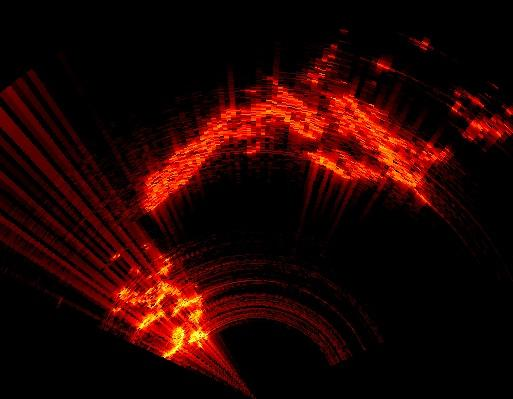shipwreck: (143, 86, 447, 210), (120, 282, 208, 357), (148, 257, 171, 277)
